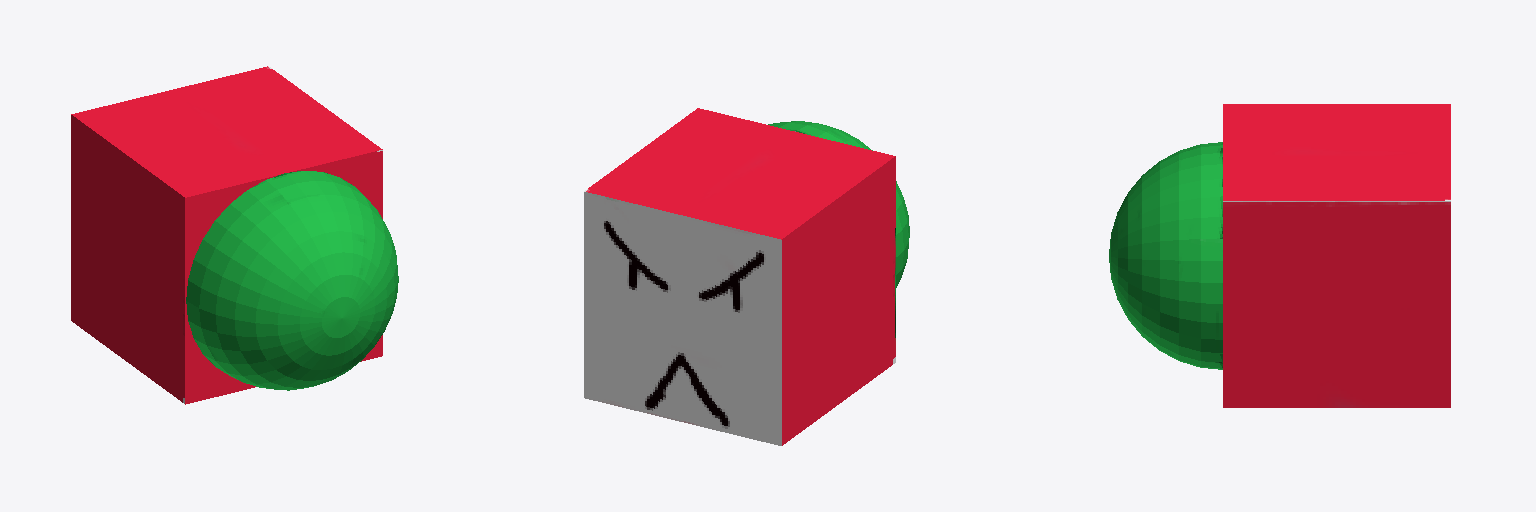
3 renders of one model, left to right at view 1: azimuth 30°, elevation 25°; view 2: azimuth 150°, elevation 25°; view 3: azimuth 270°, elevation 25°, orthographic.
Parts seen in each view (by area): view 1: 立方体, 球; view 2: 立方体, 球; view 3: 立方体, 球.
Boxes of the visible parts, x1=… form: 立方体: x1=71, y1=66, x2=382, y2=404; 球: x1=186, y1=171, x2=398, y2=390; 立方体: x1=584, y1=108, x2=895, y2=445; 球: x1=768, y1=121, x2=909, y2=287; 立方体: x1=1223, y1=104, x2=1450, y2=407; 球: x1=1109, y1=142, x2=1222, y2=369.
Bounding box in the file's own units: 2.01 × 2 × 3.
Materials: 1 (1 with a texture image).